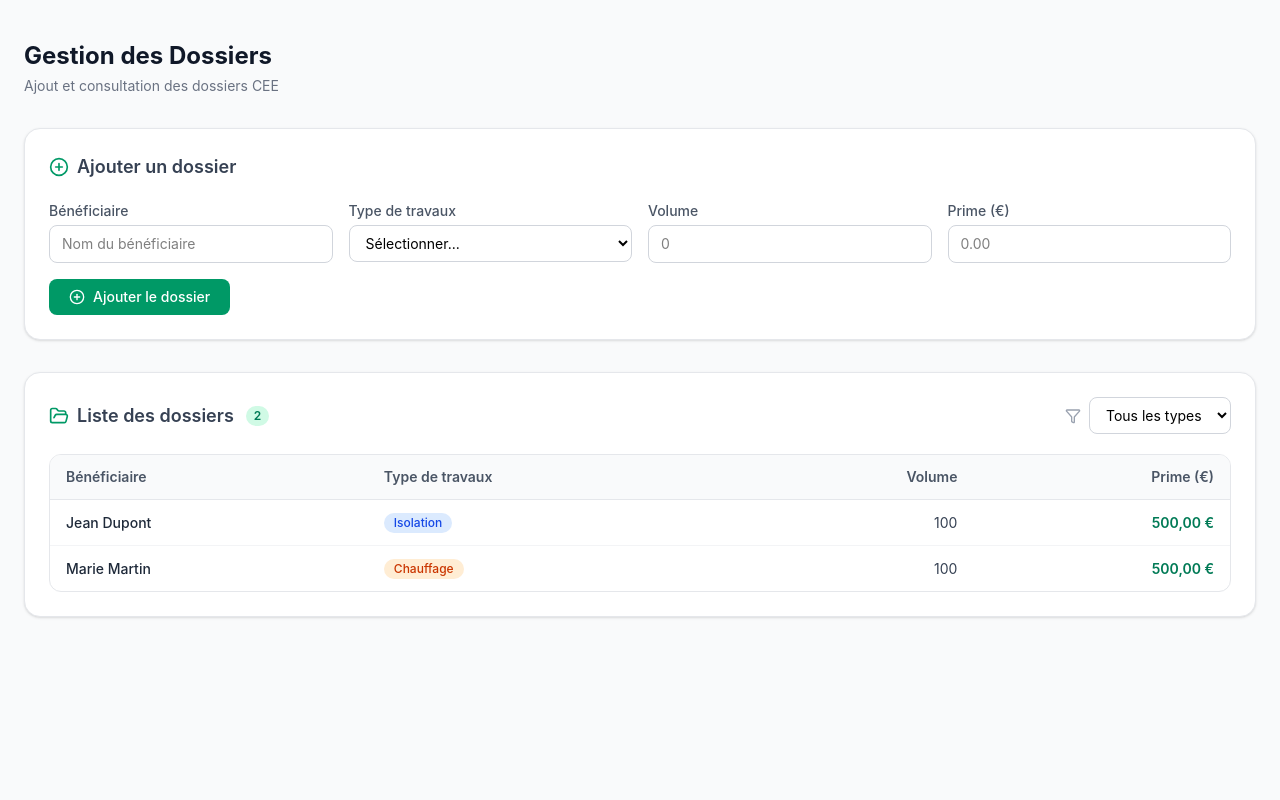
Test: GestionDossiers › affiche une erreur sur soumission du formulaire vide
Expected: the text "Jean Dupont" is shown, [50,500,368,546]
Click the button "Ajouter le dossier". click: (140, 297)
box: [49,279,230,315]
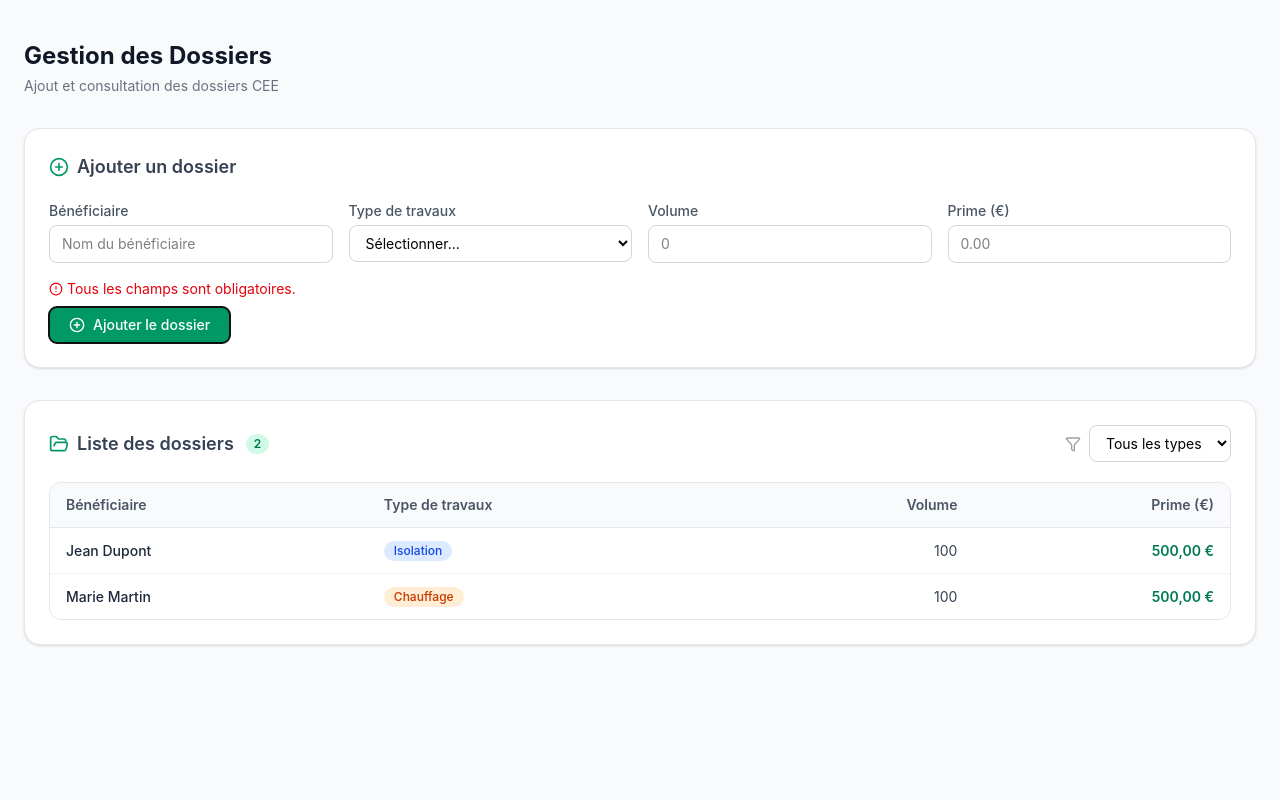
Expected: the text "Tous les champs sont obligatoires." is shown, [49,280,296,297]
